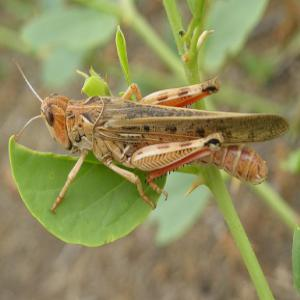locust: (29, 71, 297, 188)
